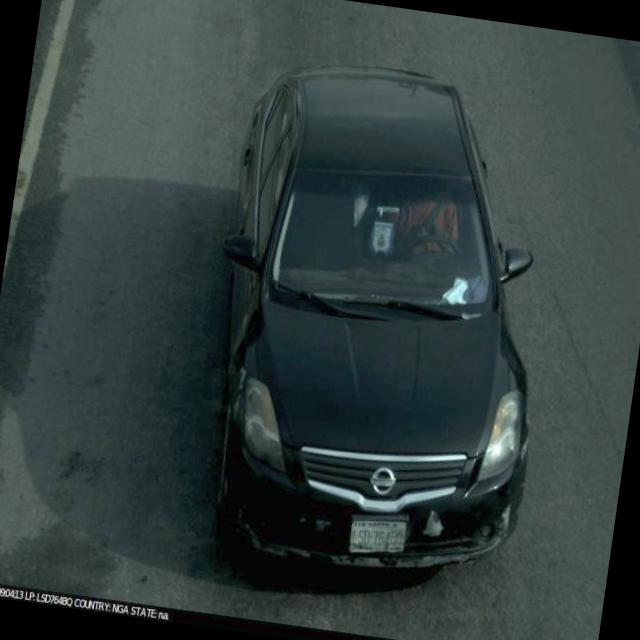person_with_seatbelt: (371, 185, 468, 282)
